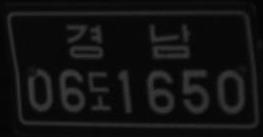0: (215, 68, 246, 114), (25, 66, 54, 112)
1: (114, 68, 139, 113)
5: (181, 68, 210, 115)
6: (58, 67, 86, 114), (146, 69, 175, 113)
경남_D: (65, 22, 192, 59)
도: (87, 70, 112, 111)
